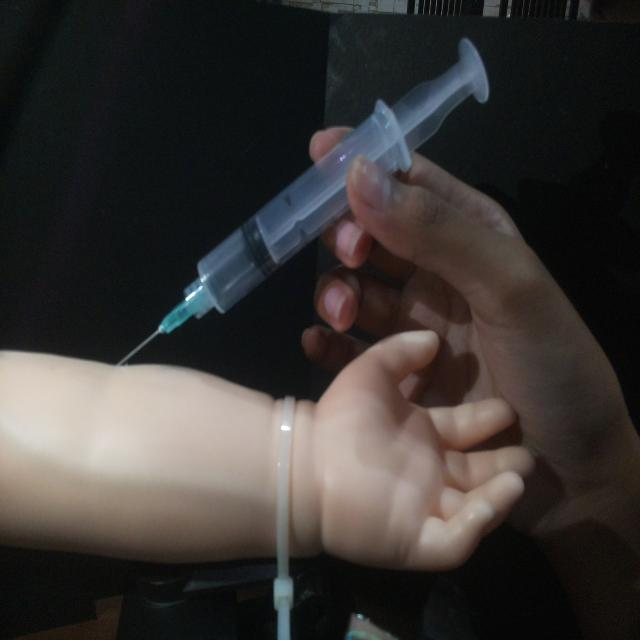30deg: (111, 33, 493, 369)
